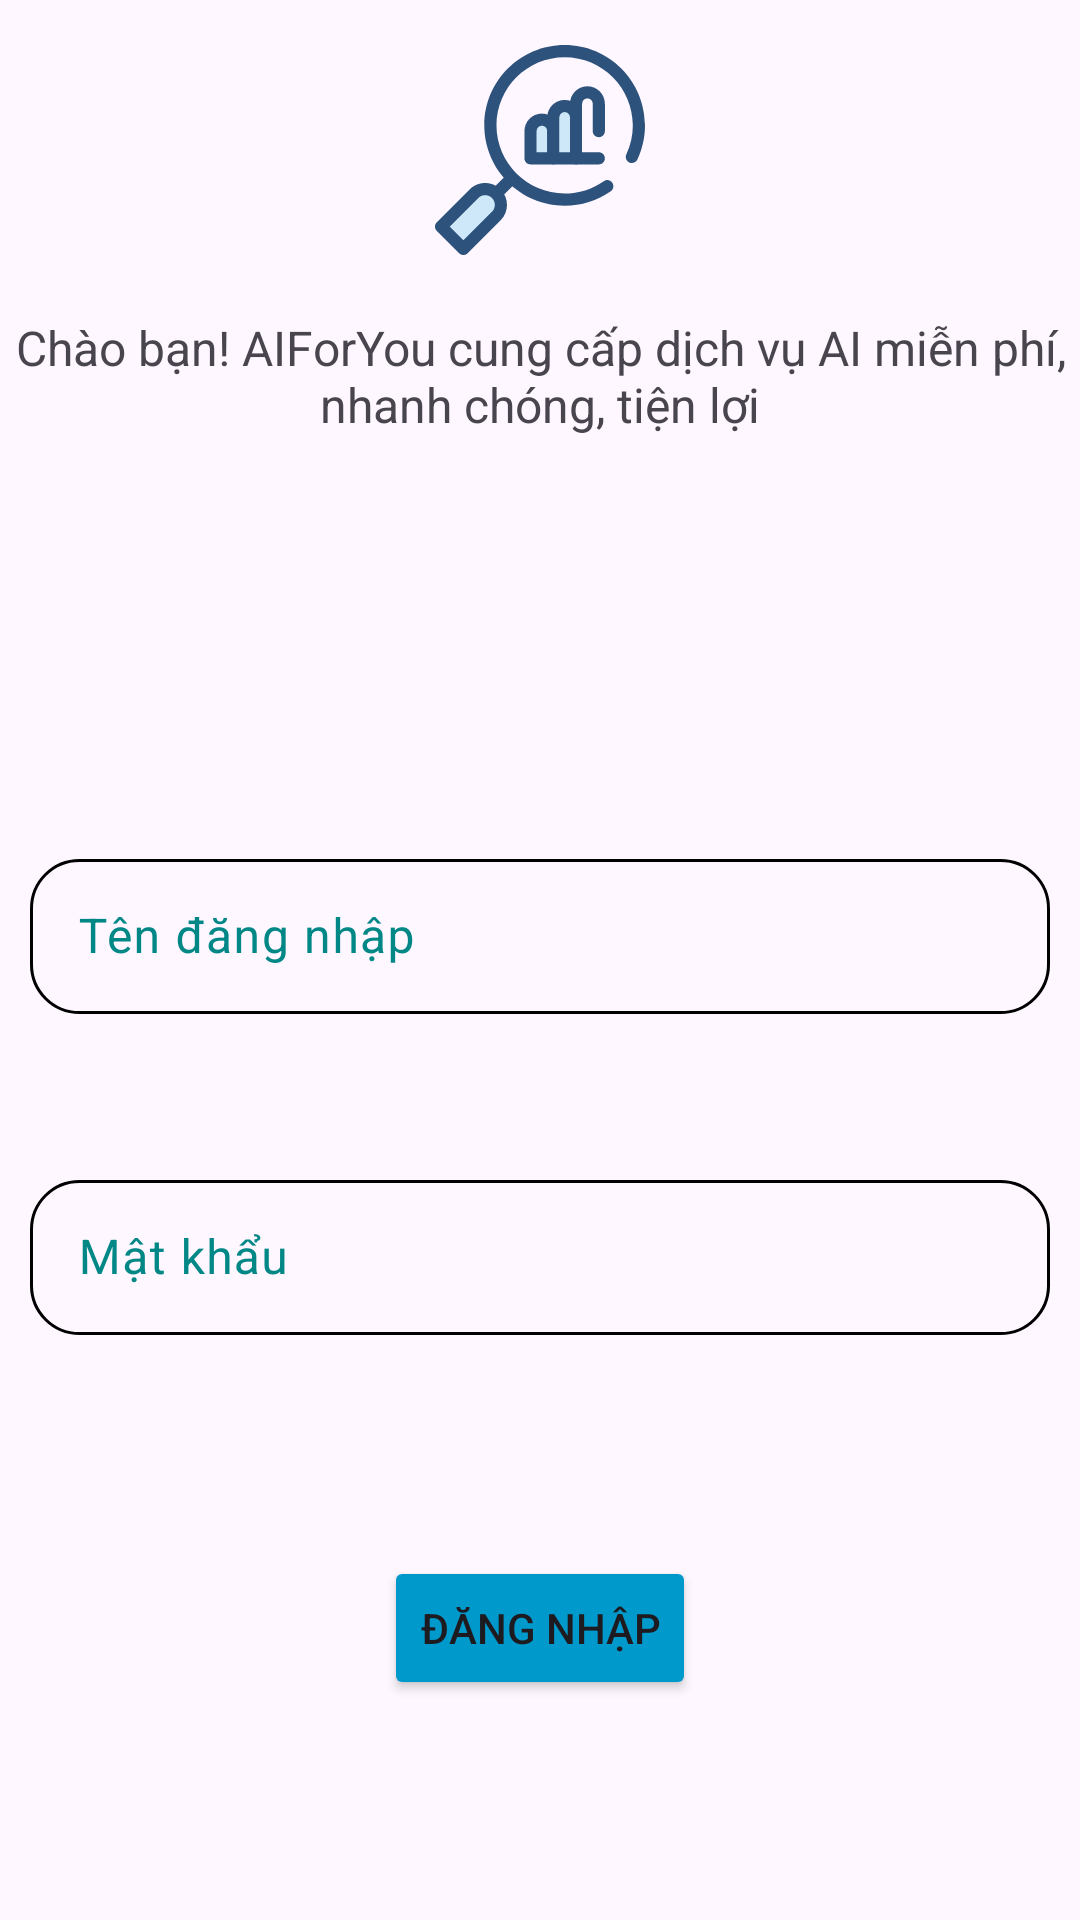

Icons on this 1080 x 1920 Android screen, each with its box as detection(x1, y1, x2, y2):
statistics: detection(435, 45, 645, 255)
